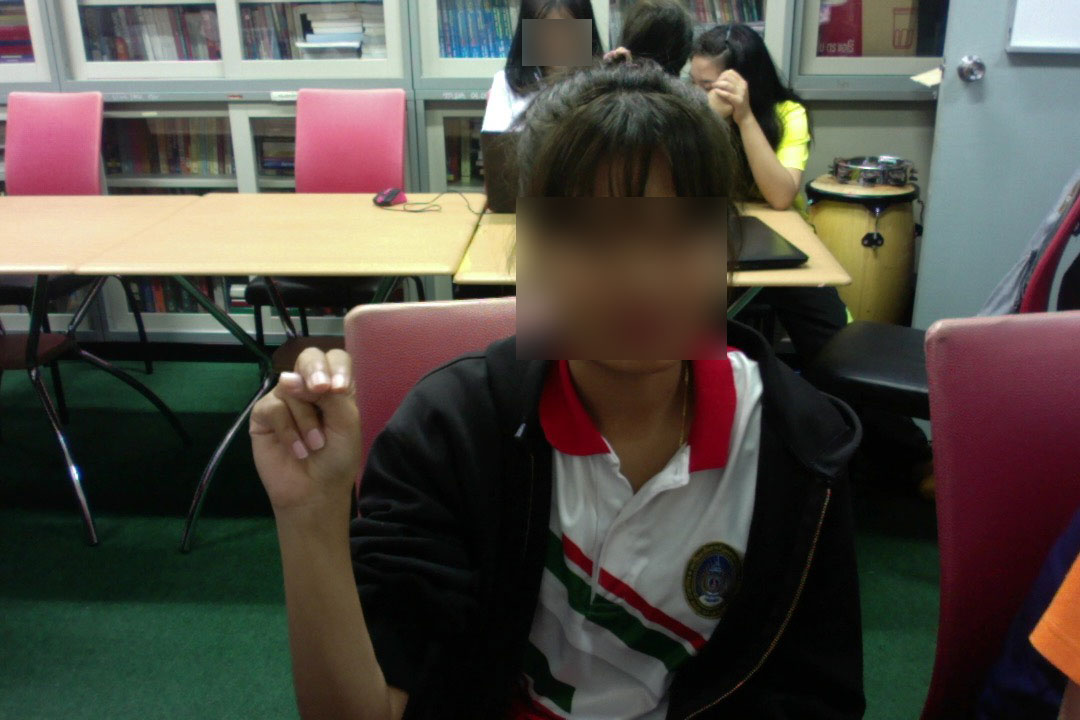nor: (237, 341, 366, 522)
